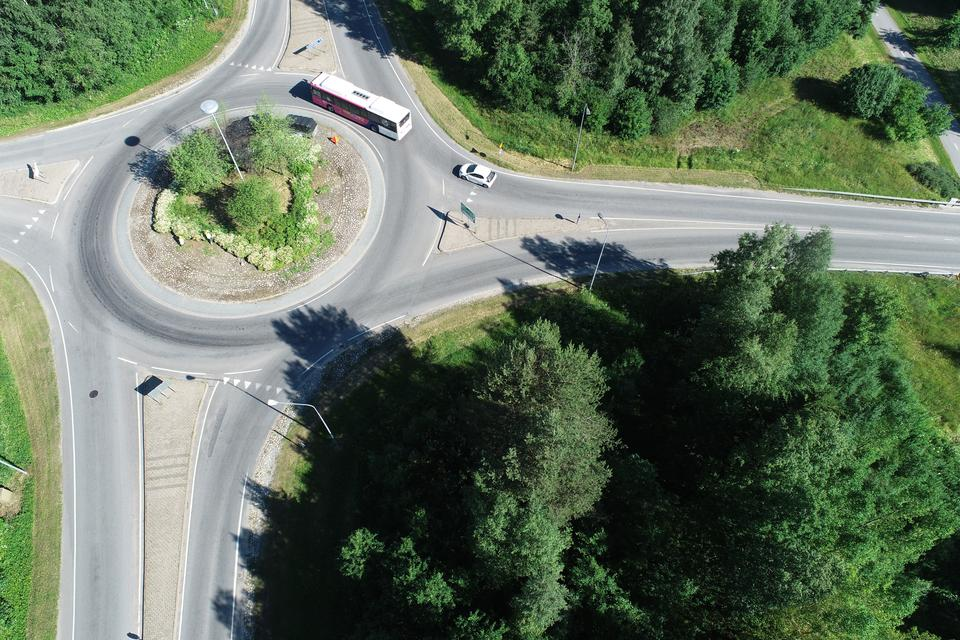roundabout: (21, 0, 520, 420)
